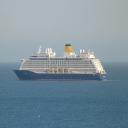cruises: (13, 43, 109, 84)
